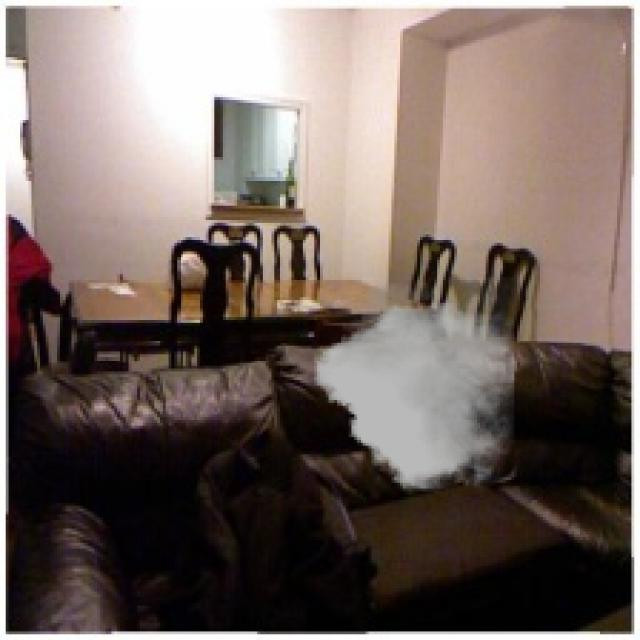smoke: (314, 277, 514, 494)
